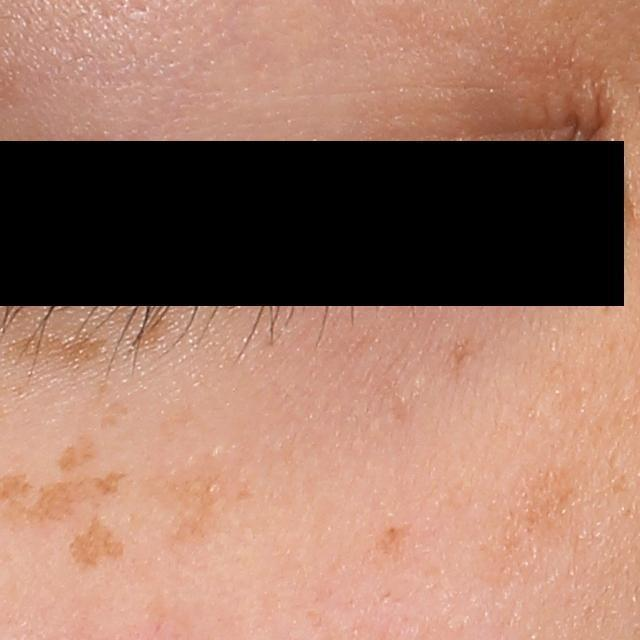melasma: (491, 456, 592, 571), (148, 462, 259, 557), (67, 514, 125, 574), (366, 519, 419, 566), (443, 335, 483, 387), (55, 432, 98, 473), (130, 316, 171, 353)
